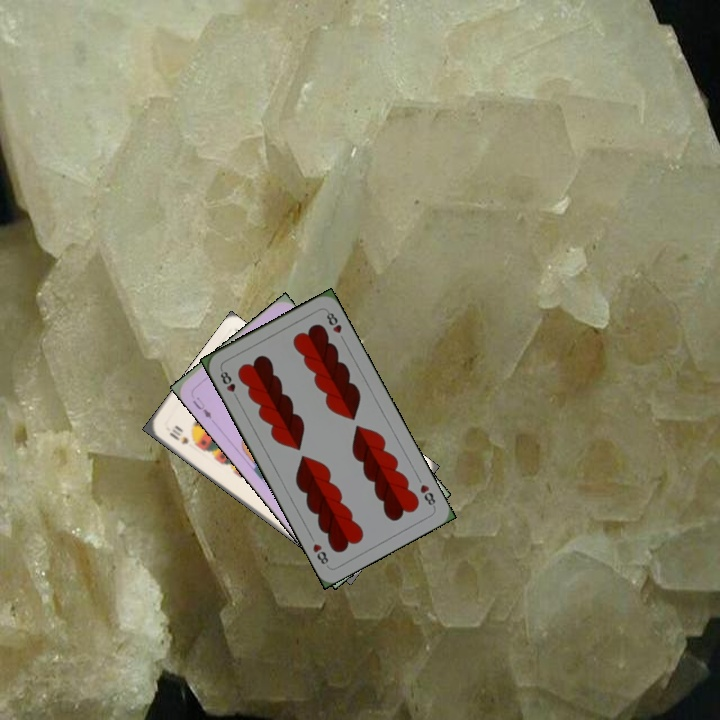EU: (188, 393, 216, 424)
H8: (216, 365, 241, 403), (416, 480, 438, 510)
S10: (165, 425, 191, 447)
